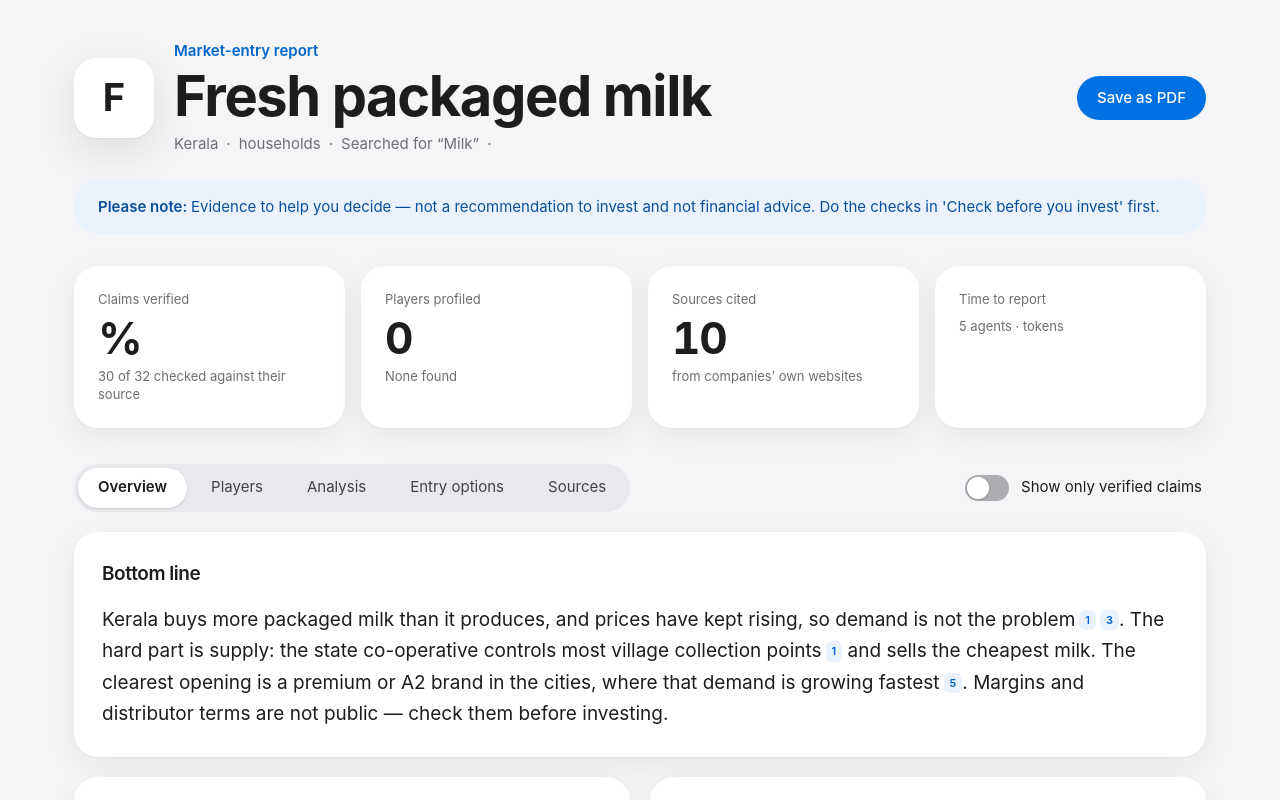
ReportDashboard — market-entry report (M13) › no players: says so in market words
Step 1. Click the tab "Players" → (237, 488), box [191,468,283,508]
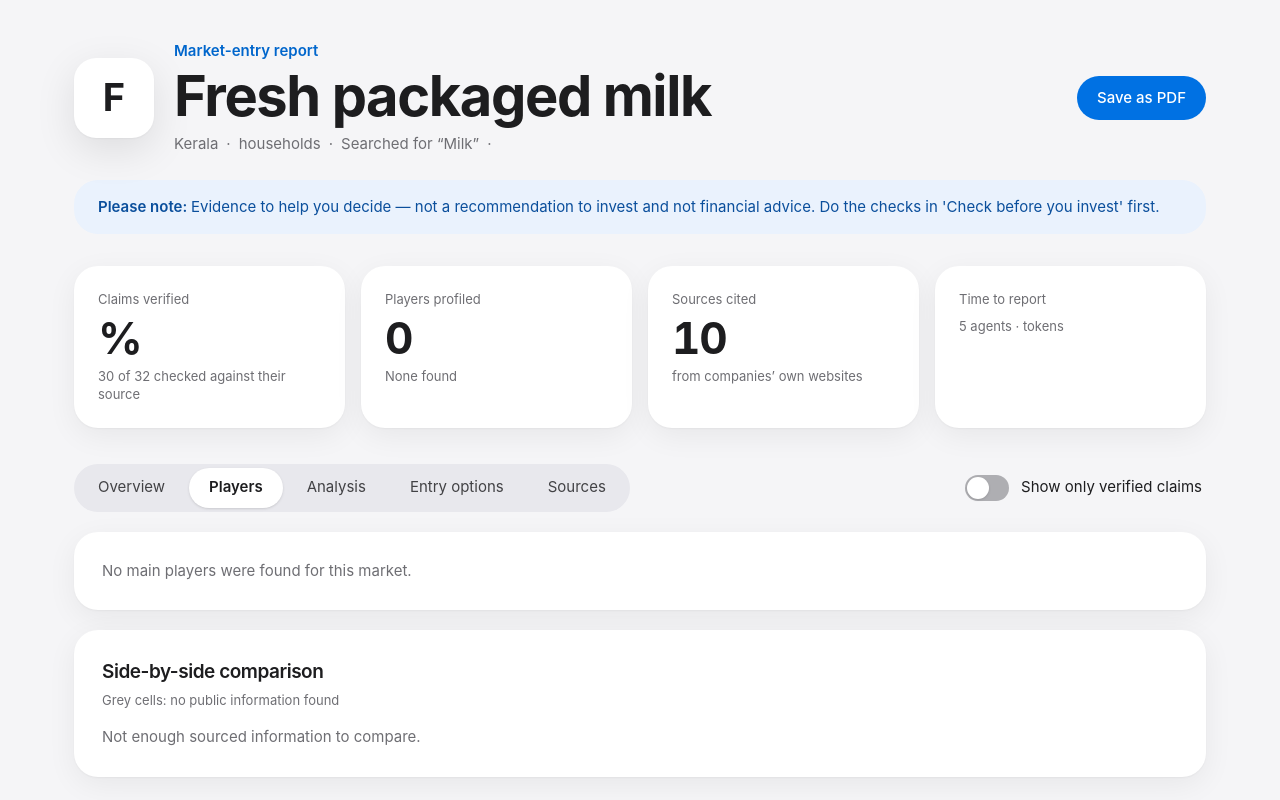
Expected: the text "No main players were found for this market." is shown, [102,560,412,580]
